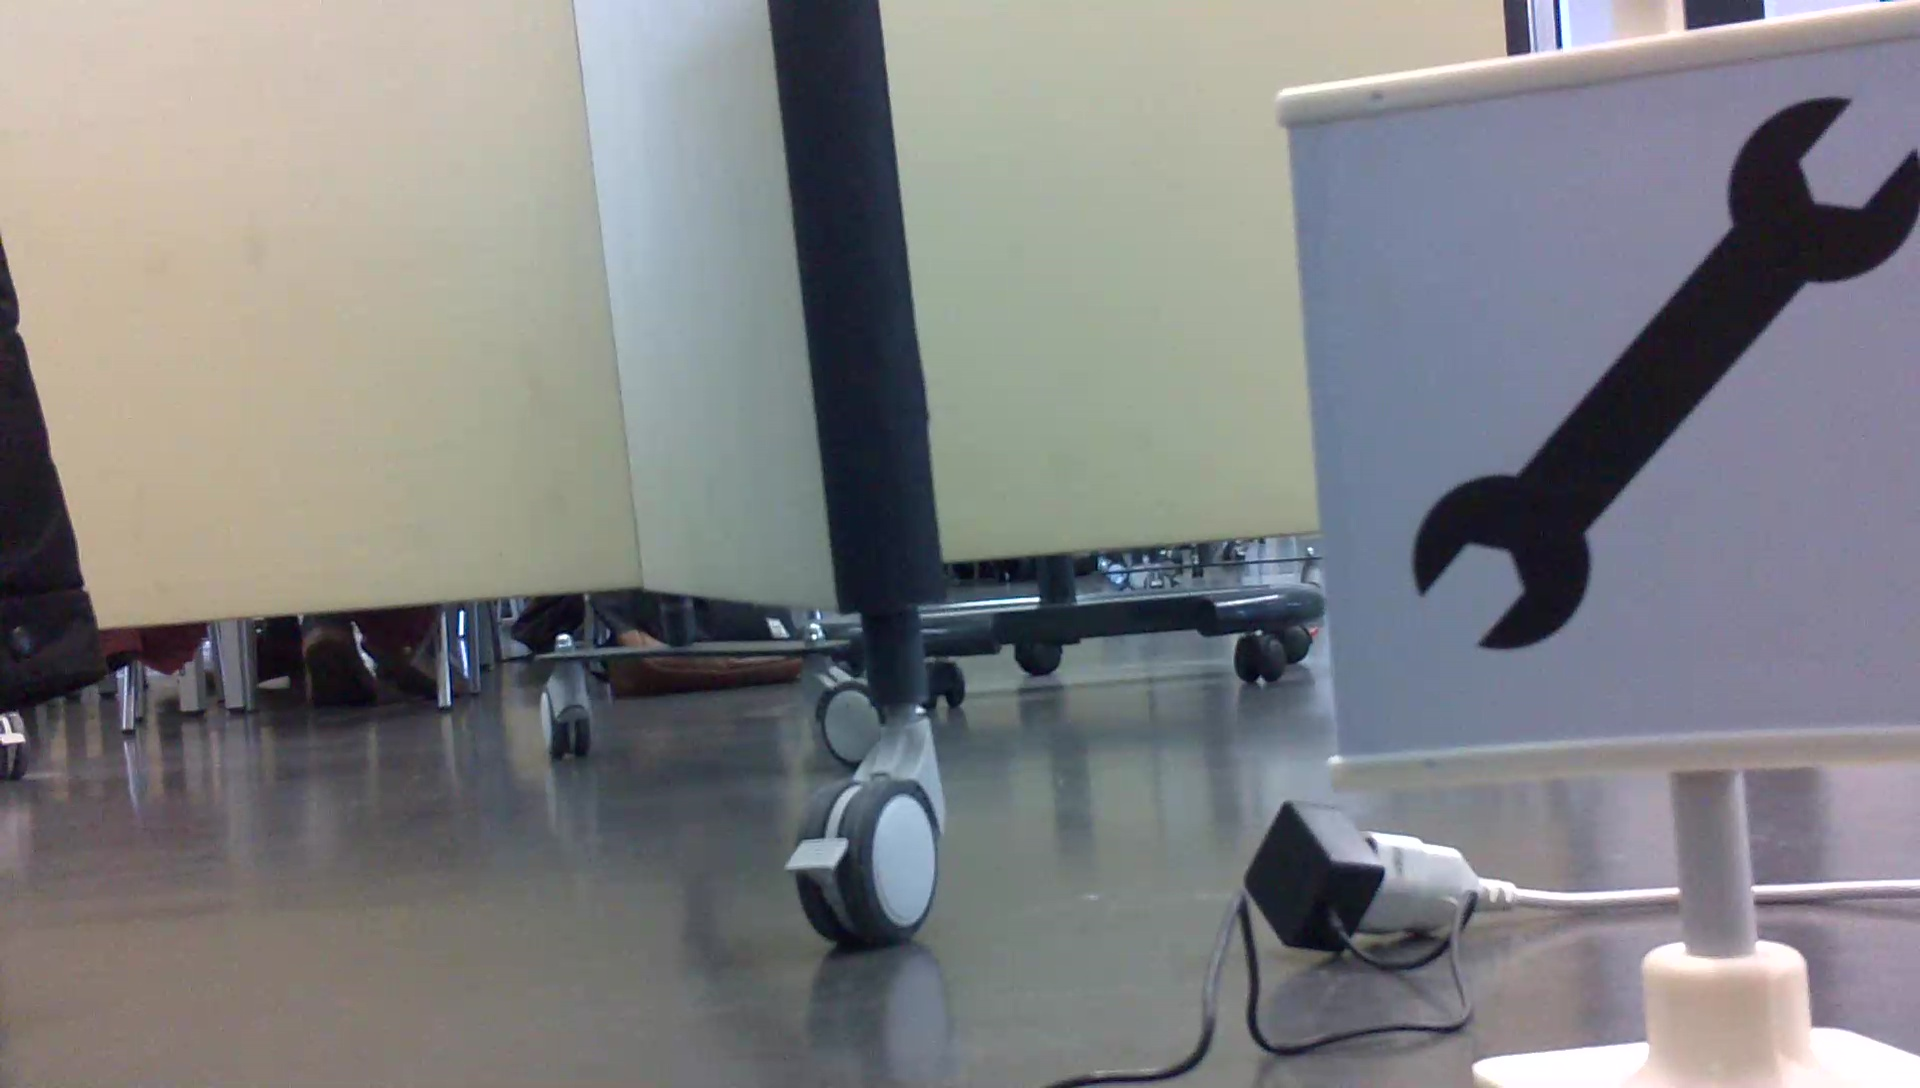wrench: (1396, 84, 1920, 658)
